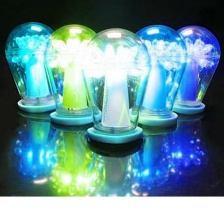light_bulb: (76, 24, 154, 146), (39, 21, 107, 126), (128, 22, 190, 131), (2, 19, 68, 114), (164, 23, 223, 117)
